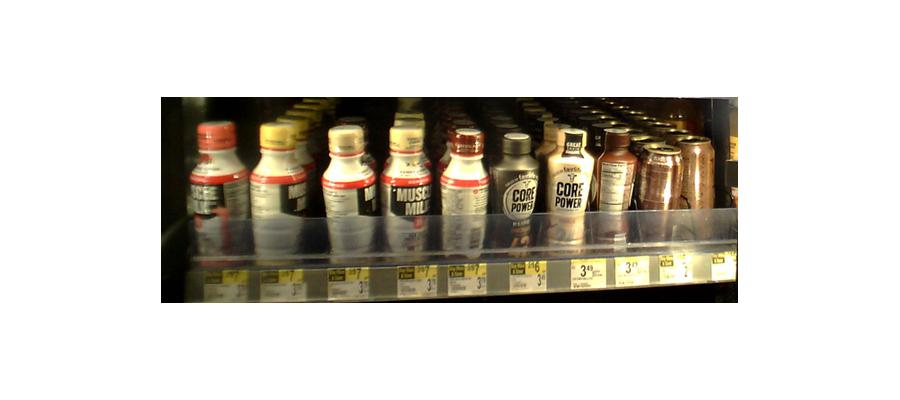bottle: (250, 124, 310, 263), (193, 120, 248, 265), (323, 126, 378, 262), (382, 119, 434, 257), (439, 125, 487, 259), (543, 127, 594, 253), (488, 130, 539, 256), (638, 134, 684, 251), (596, 124, 636, 251), (680, 130, 717, 242)
